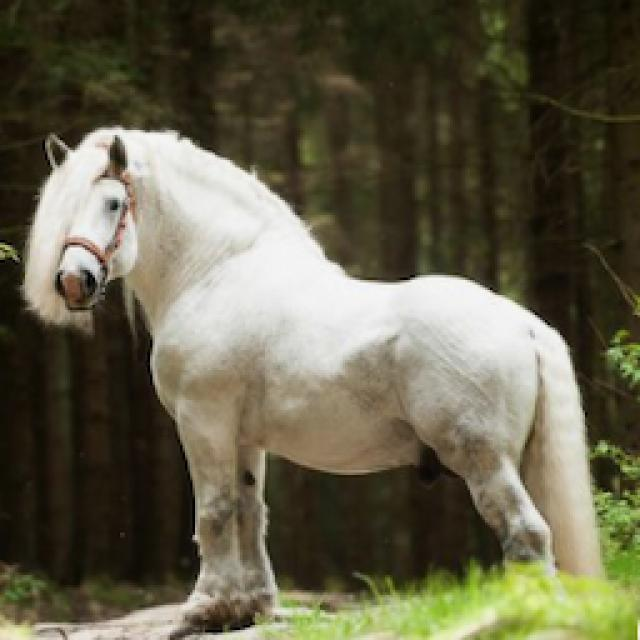Horse: (15, 118, 615, 638)
